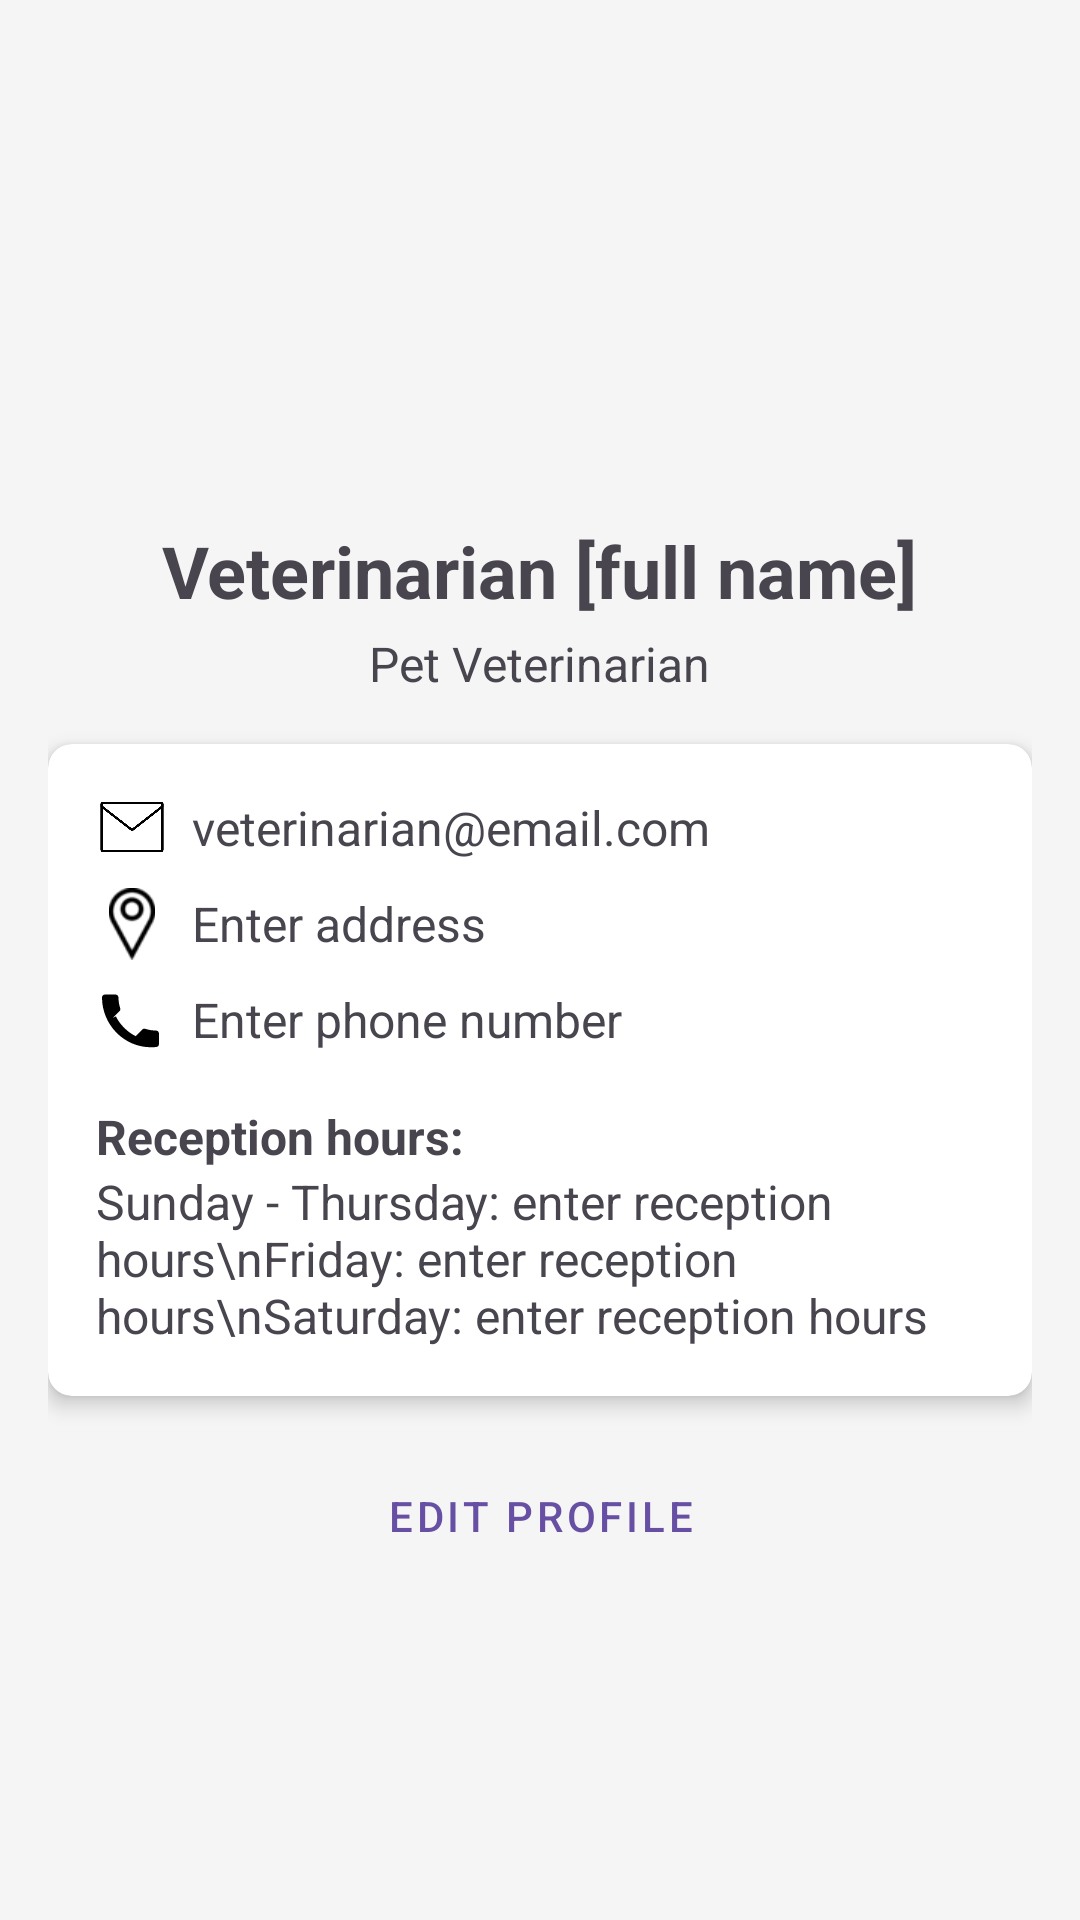

Icon click points for this 1080*1920 phone screenshot, format (x,y):
location: (132,924)
